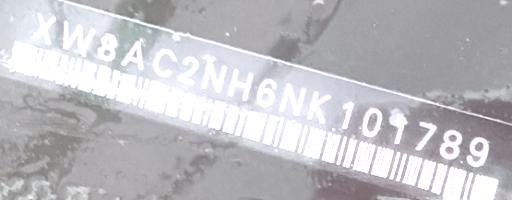letter: (58, 19, 96, 54), (198, 58, 232, 93), (436, 125, 468, 160), (28, 11, 60, 46), (278, 83, 310, 117), (304, 88, 334, 124), (226, 66, 256, 102), (464, 133, 494, 168), (150, 46, 180, 79), (176, 52, 204, 87), (334, 96, 360, 132), (414, 118, 440, 153), (119, 37, 145, 72), (360, 103, 384, 138), (96, 31, 120, 62), (388, 112, 410, 145), (256, 76, 278, 108)
